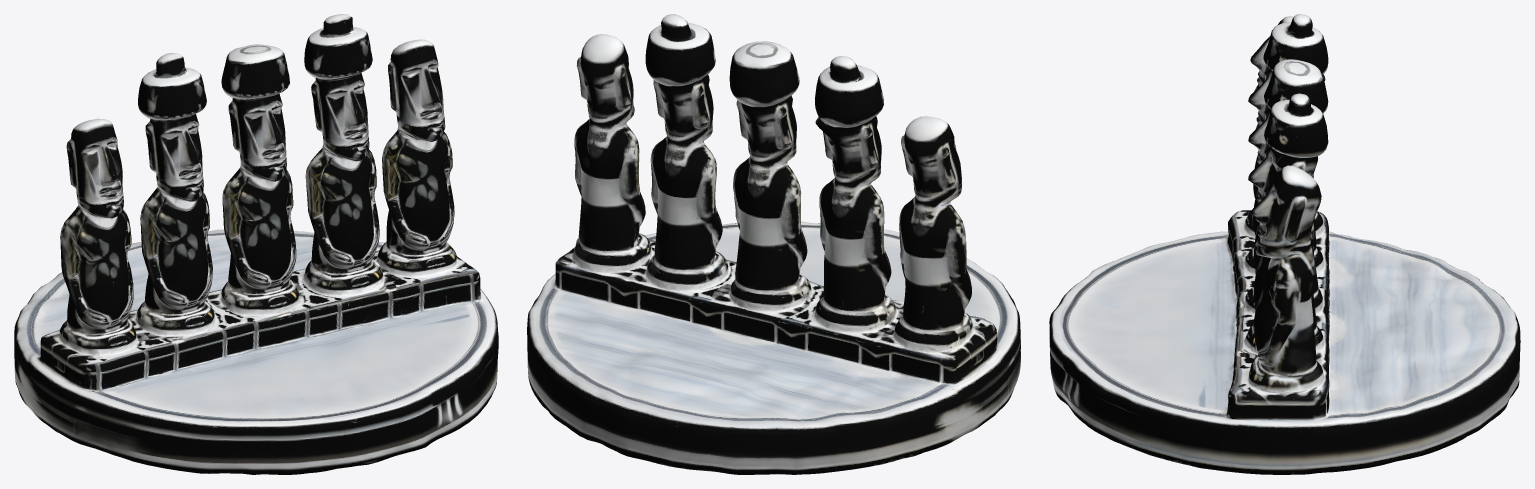
Rendered from easter_island_diamond.glb.
3 views of the same model, side by side, from view 1: azimuth 30°, elevation 25°; view 2: azimuth 150°, elevation 25°; view 3: azimuth 270°, elevation 25° (orthographic). The views are drawn at different scales.
Parts seen in each view (by area): view 1: Mesh_0; view 2: Mesh_0; view 3: Mesh_0.
Boxes of the visible parts, bbox=[...] form: Mesh_0: bbox=[14, 14, 498, 474]; Mesh_0: bbox=[527, 14, 1020, 474]; Mesh_0: bbox=[1049, 14, 1520, 474].
Size of the model in its own units: 1.91 by 1.46 by 1.91.
1 material, 1 textured.
